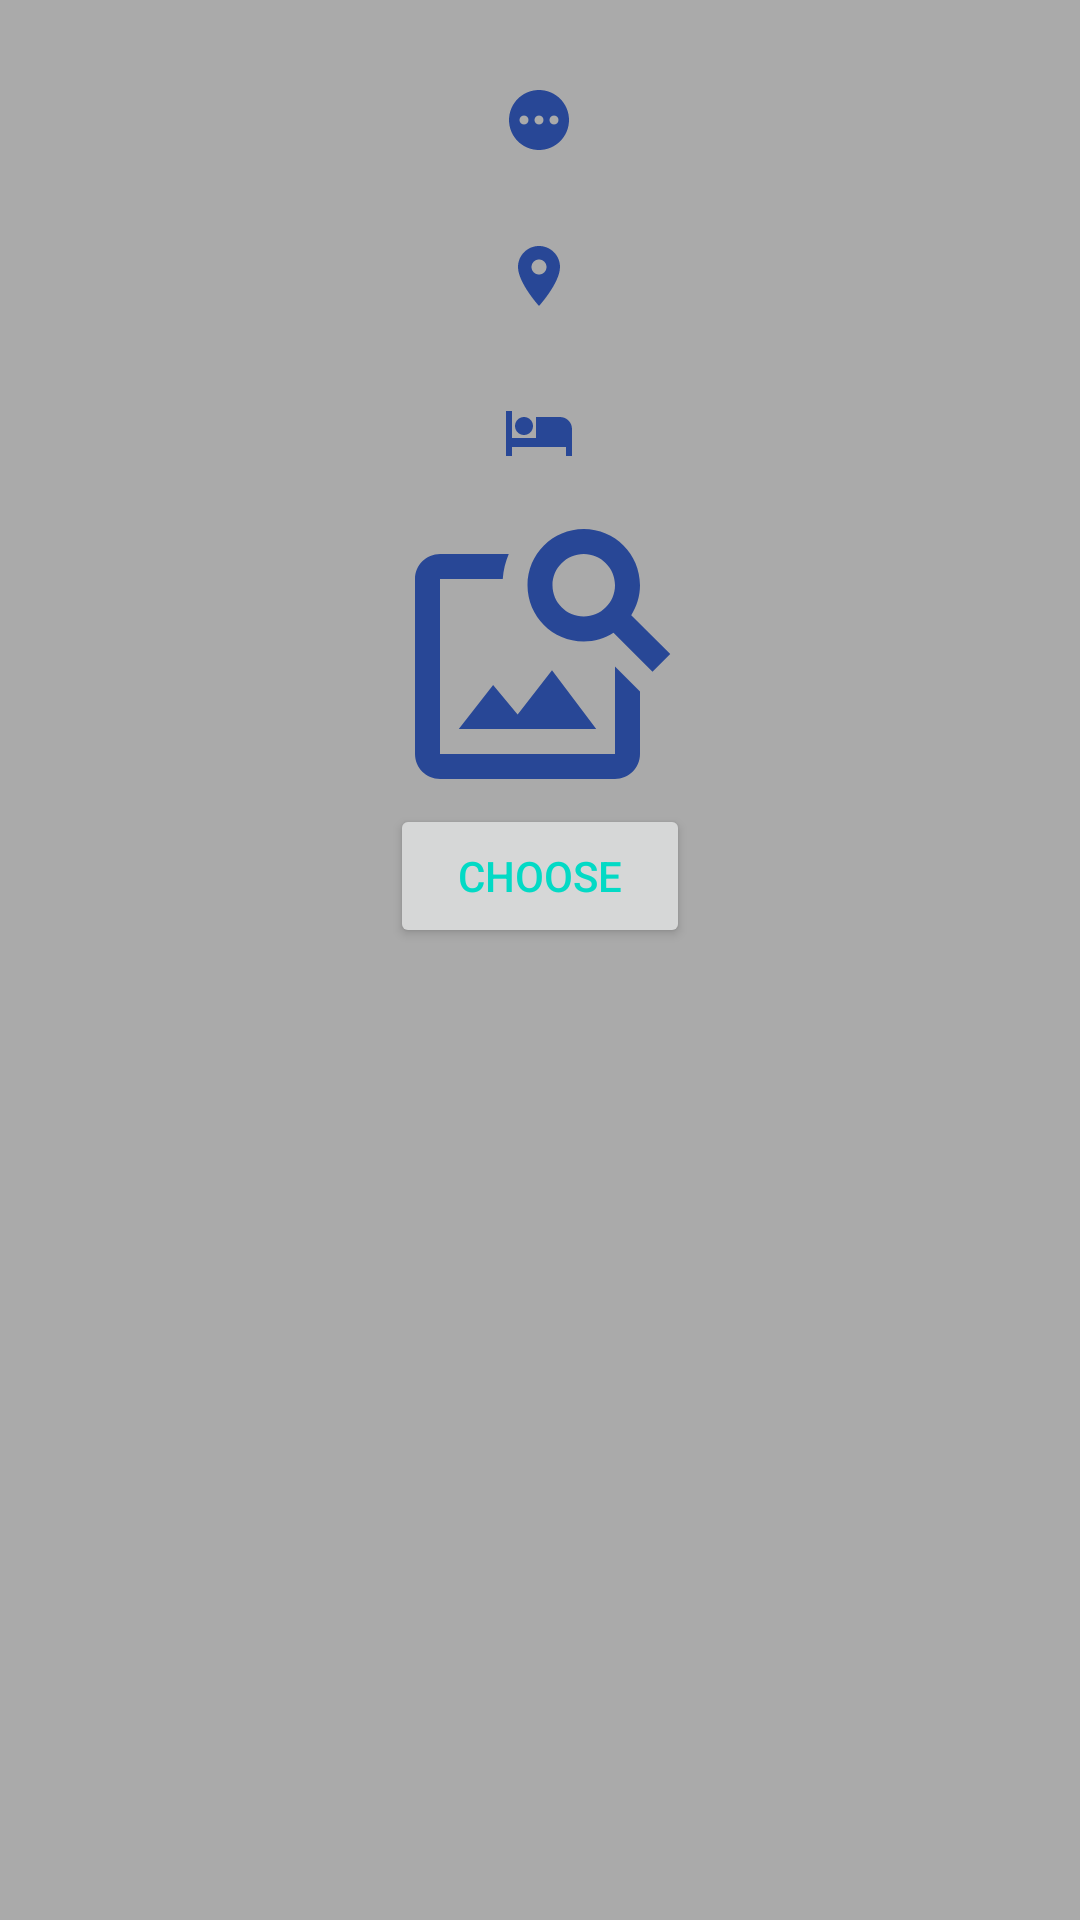

Named icons in this screenshot (1080 × 1920) and their bounding boxes, (x1, y1, x2, y2):
New image: (415, 529, 670, 779)
